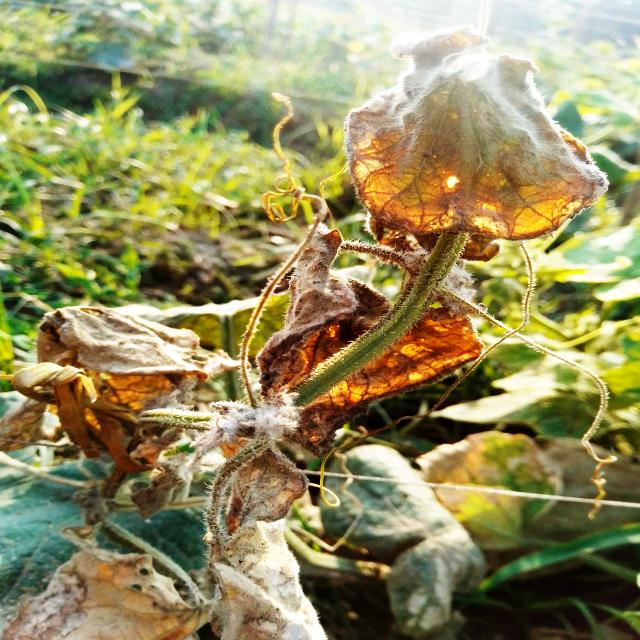Bacterial-Wilt: (341, 20, 611, 239), (207, 435, 331, 640)
